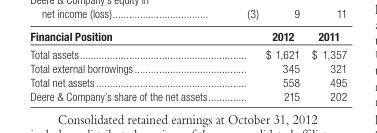table: (29, 28, 346, 102)
table column: (29, 28, 235, 102), (235, 28, 305, 102), (305, 28, 346, 102)
table column header: (29, 28, 346, 44)
table row: (29, 28, 346, 44), (29, 44, 346, 60), (29, 60, 346, 74), (29, 74, 346, 88), (29, 88, 346, 102)
